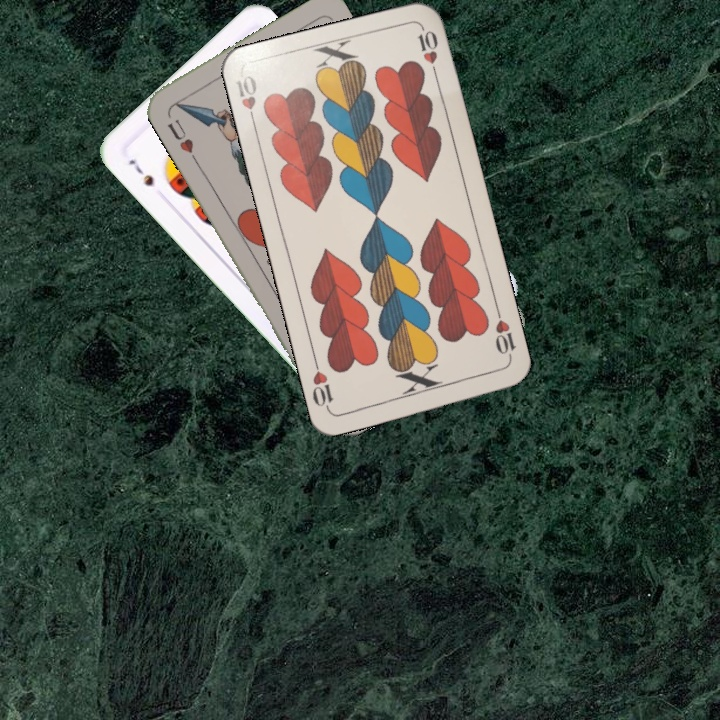H10: (231, 71, 260, 130), (491, 305, 519, 364)
HU: (163, 115, 196, 156)
S7: (124, 155, 157, 189)
